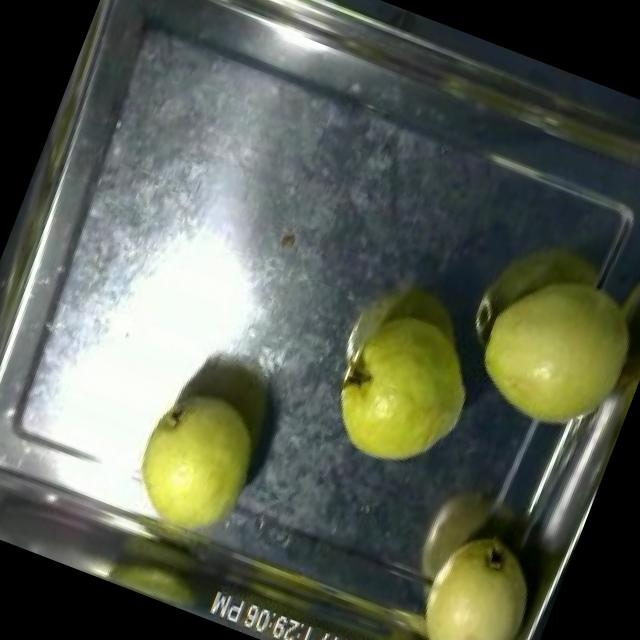Fruit: (448, 243, 640, 457), (308, 287, 500, 491), (107, 366, 286, 560), (388, 509, 566, 640)
